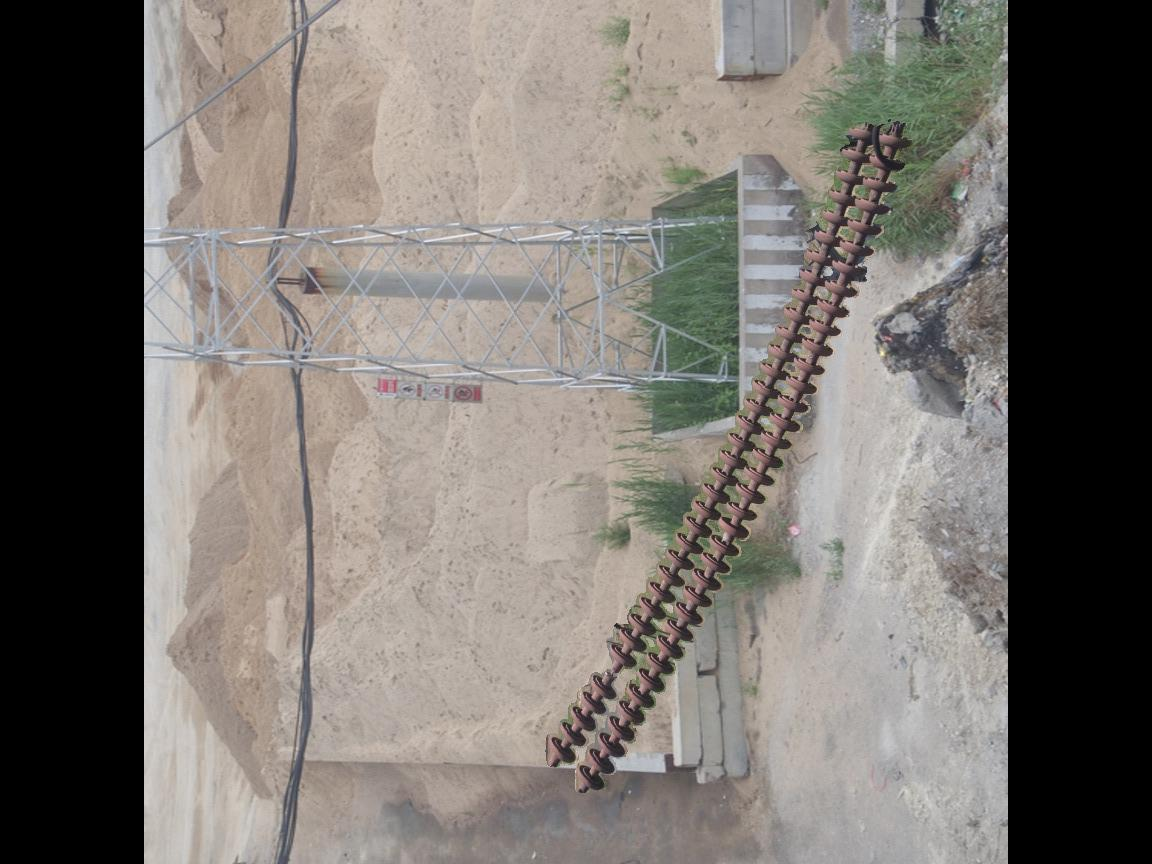insulator: (543, 121, 917, 797)
insulator_stringdrop: (585, 640, 635, 699)
